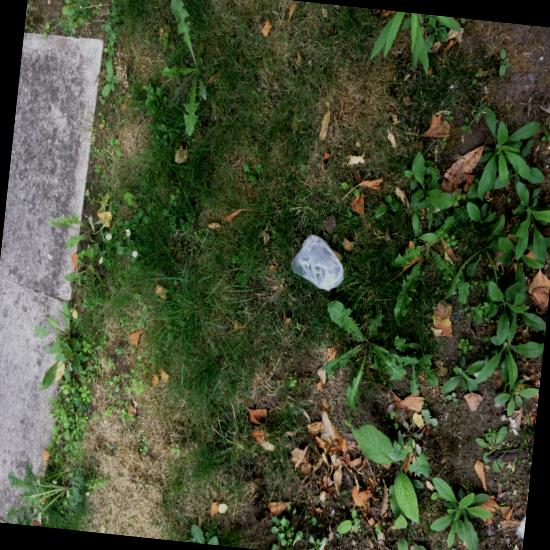Plastic film: (291, 234, 344, 291)
